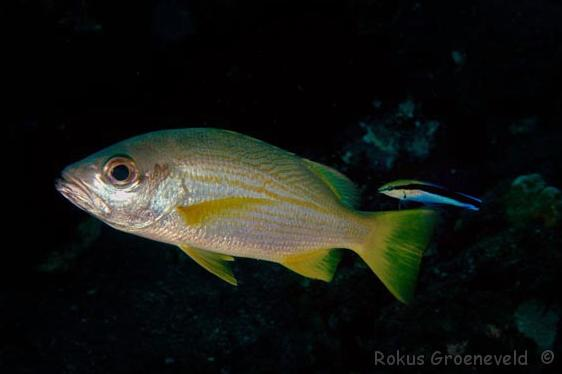Lutjanidae -Snappers-: (48, 116, 449, 315)
